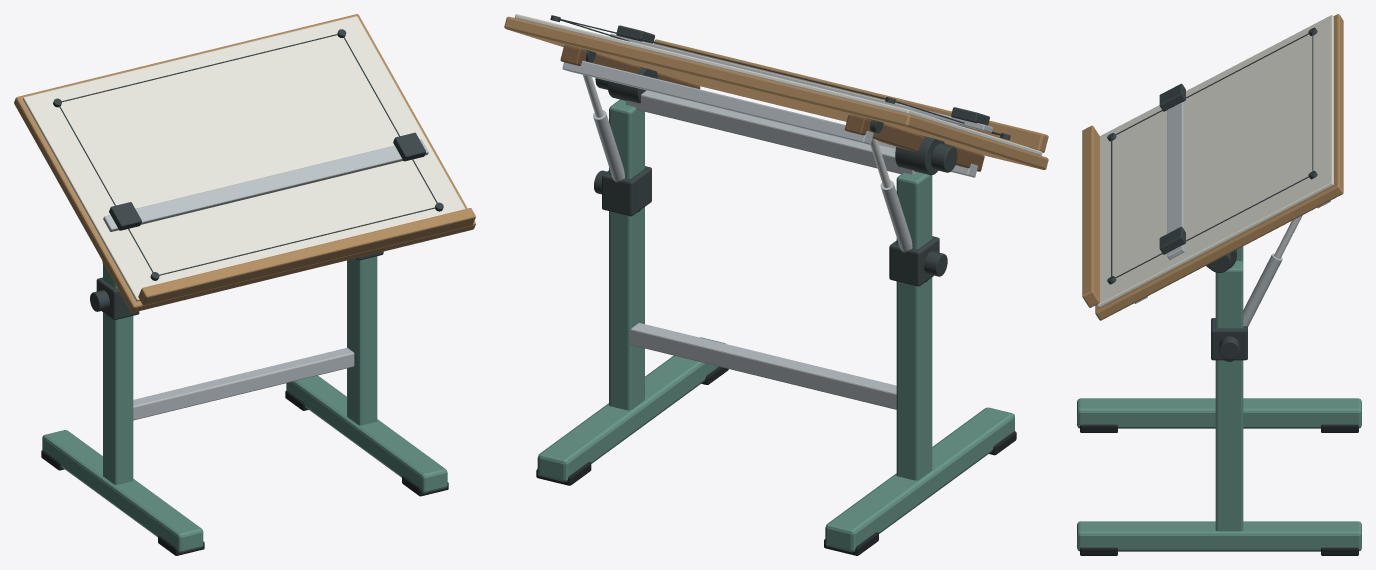
The model's file is city-tilting-drafting-table.glb.
The picture shows the model from 3 angles, left to right: view 1: azimuth 30°, elevation 25°; view 2: azimuth 150°, elevation 25°; view 3: azimuth 270°, elevation 25°; orthographic projection. The views are drawn at different scales.
Parts seen in each view (by area): view 1: Assembly | Unmarked warm canvas or board, Assembly | Muted sage machine enamel, Assembly | Warm plain easel wood, Assembly | Satin workshop fittings, Assembly | Dark metal fixtures, Assembly | Dark pads and cable rubber; view 2: Assembly | Muted sage machine enamel, Assembly | Satin workshop fittings, Assembly | Warm plain easel wood, Assembly | Dark metal fixtures, Assembly | Dark wooden stiffeners, Assembly | Unmarked warm canvas or board, Assembly | Dark pads and cable rubber, Assembly | Polished small hardware; view 3: Assembly | Unmarked warm canvas or board, Assembly | Muted sage machine enamel, Assembly | Warm plain easel wood, Assembly | Dark metal fixtures, Assembly | Satin workshop fittings, Assembly | Dark pads and cable rubber, Assembly | Polished small hardware.
Boxes of the visible parts, x1,y1,x2,y2 form: Assembly | Unmarked warm canvas or board: (23,16,465,301); Assembly | Muted sage machine enamel: (42,256,447,552); Assembly | Warm plain easel wood: (14,14,475,312); Assembly | Satin workshop fittings: (102,139,428,420); Assembly | Dark metal fixtures: (53,29,443,319); Assembly | Dark pads and cable rubber: (41,390,448,555); Assembly | Muted sage machine enamel: (537,99,1014,552); Assembly | Satin workshop fittings: (562,33,992,409); Assembly | Warm plain easel wood: (504,16,1048,169); Assembly | Dark metal fixtures: (550,15,1010,286); Assembly | Dark wooden stiffeners: (560,45,984,171); Assembly | Unmarked warm canvas or board: (514,14,1042,155); Assembly | Dark pads and cable rubber: (536,366,1016,555); Assembly | Polished small hardware: (583,75,891,187); Assembly | Unmarked warm canvas or board: (1097,15,1333,307); Assembly | Muted sage machine enamel: (1077,246,1361,551); Assembly | Warm plain easel wood: (1082,14,1343,320); Assembly | Dark metal fixtures: (1107,27,1317,361); Assembly | Satin workshop fittings: (1134,101,1330,326); Assembly | Dark pads and cable rubber: (1080,424,1358,555); Assembly | Polished small hardware: (1274,215,1302,258).
Bounding box in the file's own units: 1.23 × 1.29 × 0.858.
